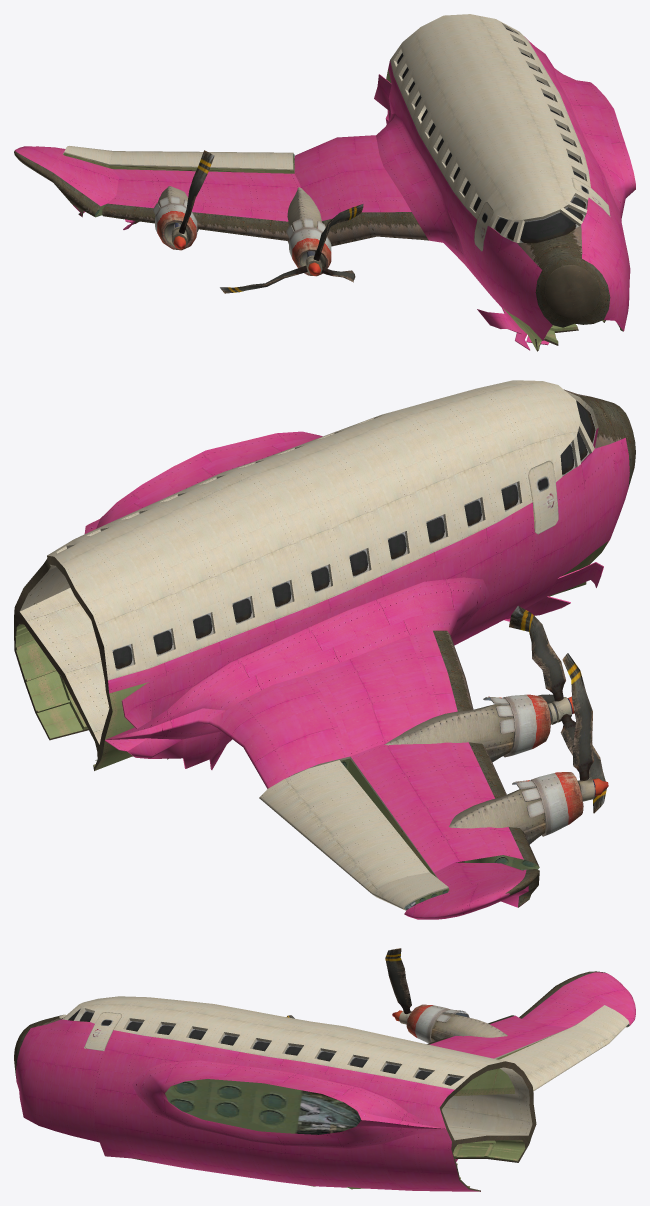
3 views of the same model, one above another, from view 1: azimuth 30°, elevation 25°; view 2: azimuth 150°, elevation 25°; view 3: azimuth 270°, elevation 25° (orthographic). The views are drawn at different scales.
Visible parts, largest first — view 1: hangout_prop_trophy_cg_am.3; view 2: hangout_prop_trophy_cg_am.3; view 3: hangout_prop_trophy_cg_am.3.
Part boxes in pixels (x1,y1,x2,y2): hangout_prop_trophy_cg_am.3: [14, 14, 635, 351]; hangout_prop_trophy_cg_am.3: [14, 380, 635, 919]; hangout_prop_trophy_cg_am.3: [14, 948, 635, 1191].
Bounding box in the file's own units: 175 × 63.53 × 229.
Materials: 9 (9 with a texture image).
